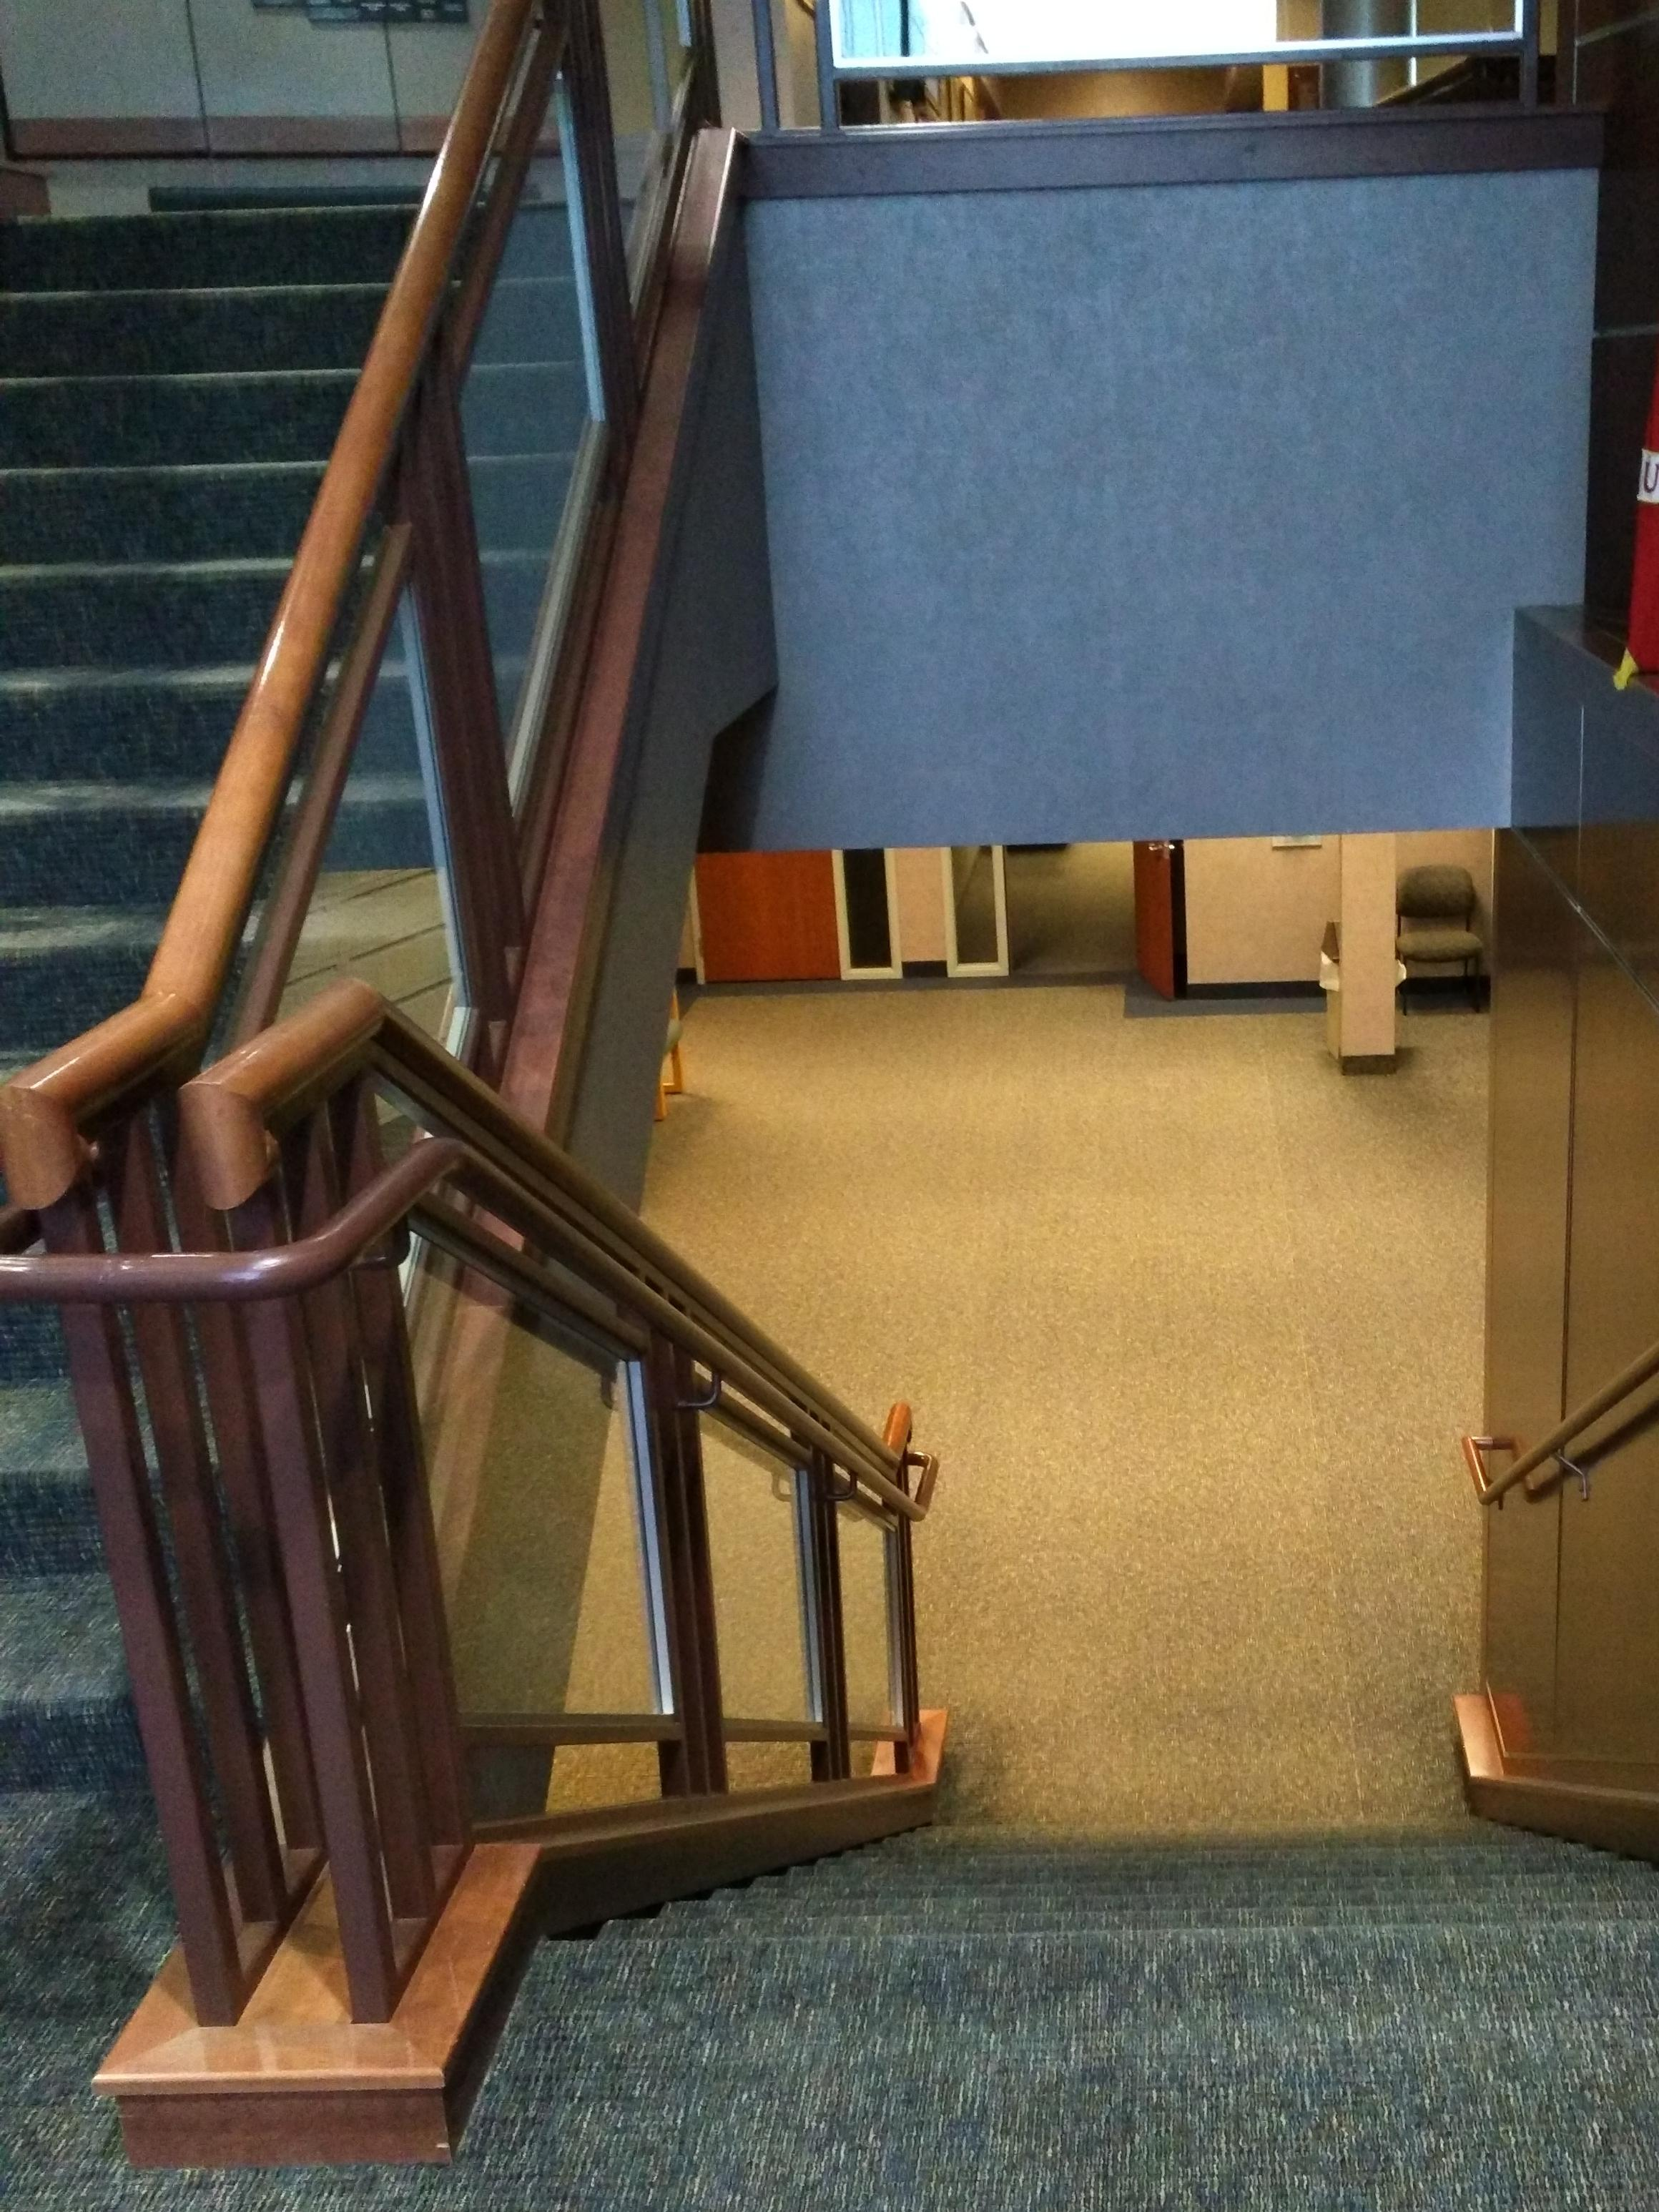stairs_down: (526, 1762, 1659, 2141)
stairs_up: (0, 101, 612, 1952)
